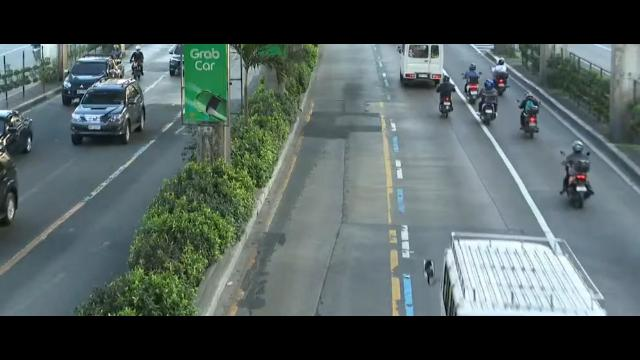bus: (394, 220, 622, 315)
car: (73, 81, 146, 147), (0, 98, 34, 153), (164, 44, 182, 74)
motorcycle: (561, 141, 593, 209), (477, 81, 497, 128), (438, 76, 457, 121), (520, 93, 538, 140), (488, 59, 511, 93), (465, 63, 480, 110), (128, 46, 146, 80), (109, 43, 125, 77)
pickup-truck: (62, 56, 126, 105)
van: (398, 44, 442, 83)
